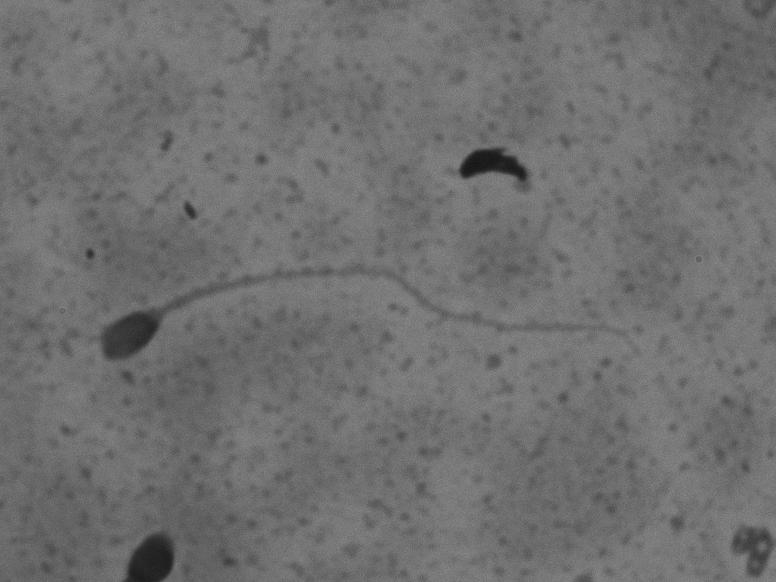Normal: (82, 250, 667, 383)
